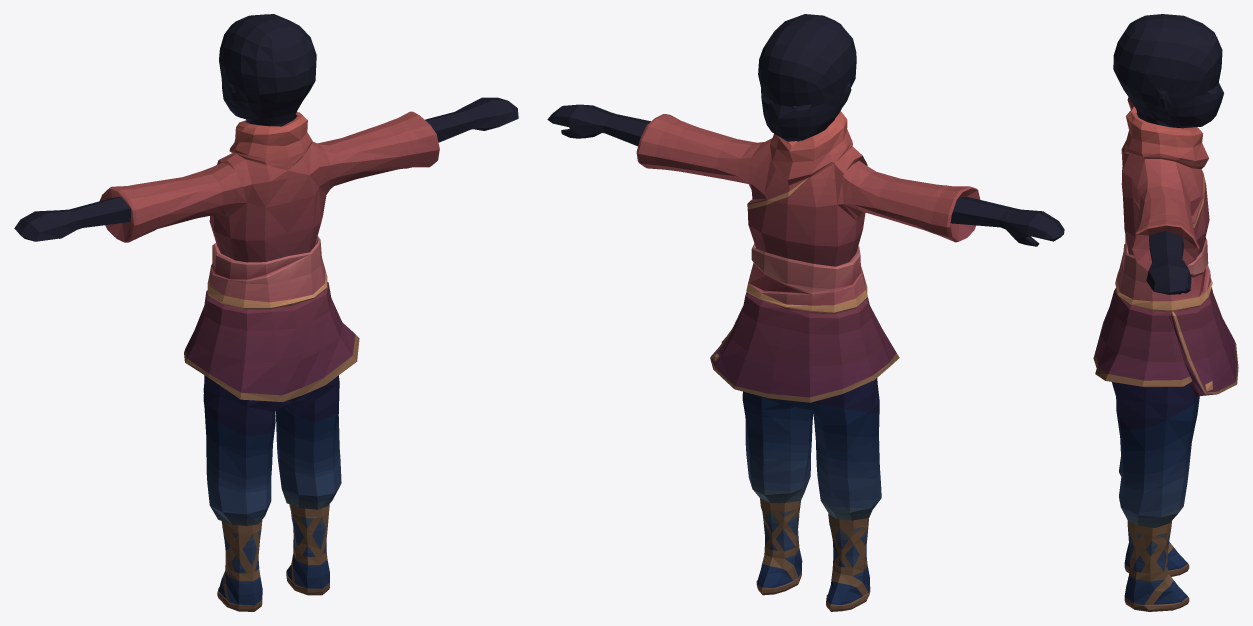
Rendered from CharSkyKid_Body_AP14DancerSkirt_01.glb.
3 views of the same model, side by side, from view 1: azimuth 30°, elevation 25°; view 2: azimuth 150°, elevation 25°; view 3: azimuth 270°, elevation 25° (orthographic).
Visible parts, largest first — view 1: CharSkyKid_Body_AP14DancerSkirt_01; view 2: CharSkyKid_Body_AP14DancerSkirt_01; view 3: CharSkyKid_Body_AP14DancerSkirt_01.
Boxes of the visible parts, box(x1,y1,x2,y2) form: CharSkyKid_Body_AP14DancerSkirt_01: box(14, 14, 518, 611); CharSkyKid_Body_AP14DancerSkirt_01: box(547, 14, 1064, 611); CharSkyKid_Body_AP14DancerSkirt_01: box(1093, 14, 1238, 611).
Bounding box in the file's own units: 13.83 × 14.97 × 3.46.
1 material, 1 textured.
